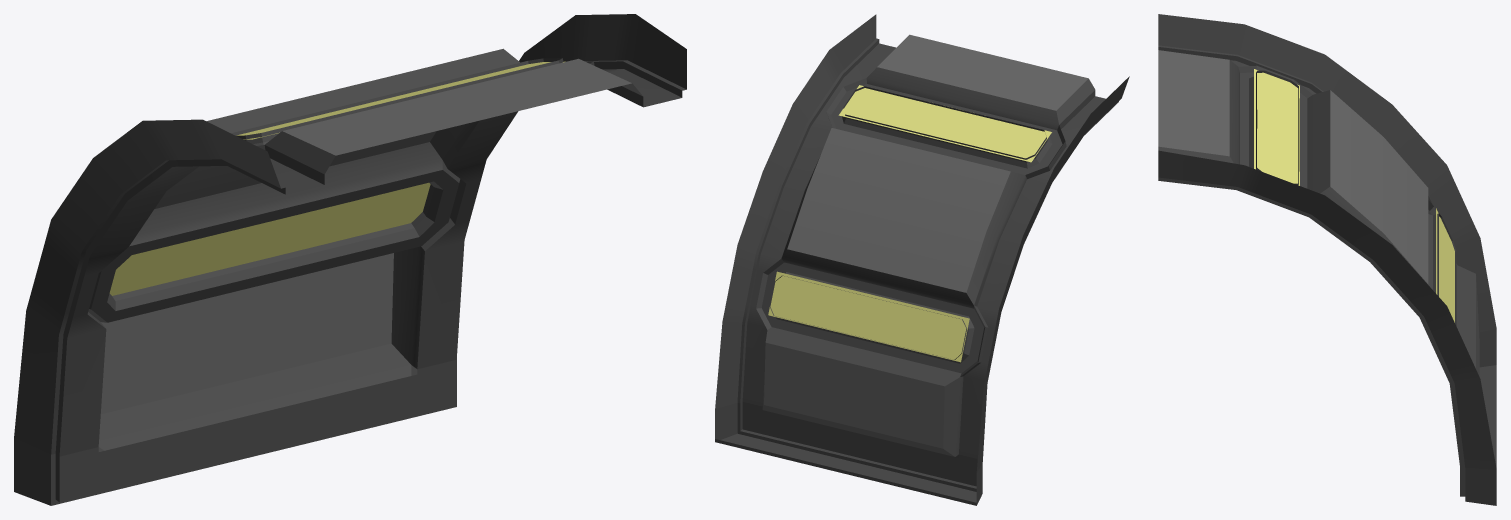
Rendered from HangerCeiling.fbx.
The picture shows the model from 3 angles, left to right: view 1: azimuth 30°, elevation 25°; view 2: azimuth 150°, elevation 25°; view 3: azimuth 270°, elevation 25°; orthographic projection. The views are drawn at different scales.
Visible parts, largest first — view 1: HangerPanel, Light1, Light2; view 2: HangerPanel, Light1, Light2; view 3: HangerPanel, Light2, Light1.
Part boxes in pixels (x1,y1,x2,y2): HangerPanel: (14,14,686,505); Light1: (109,182,430,295); Light2: (236,61,565,139); HangerPanel: (715,14,1129,505); Light1: (768,271,969,362); Light2: (838,85,1051,162); HangerPanel: (1158,14,1496,505); Light2: (1254,69,1299,185); Light1: (1436,208,1454,322).
Size of the model in its own units: 25.59 by 29.73 by 25.98.
